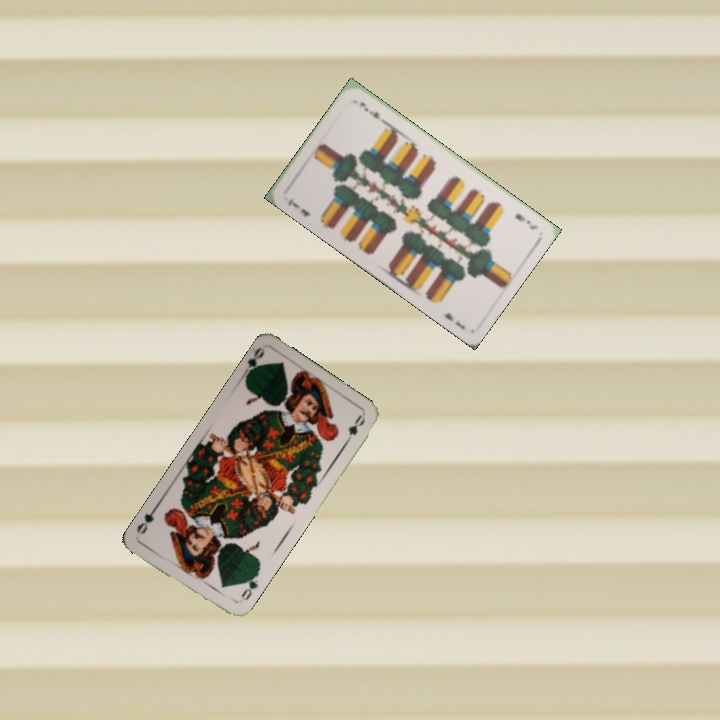E7: (283, 194, 314, 219), (511, 209, 541, 232)
GO: (237, 343, 267, 382), (237, 570, 261, 603)
